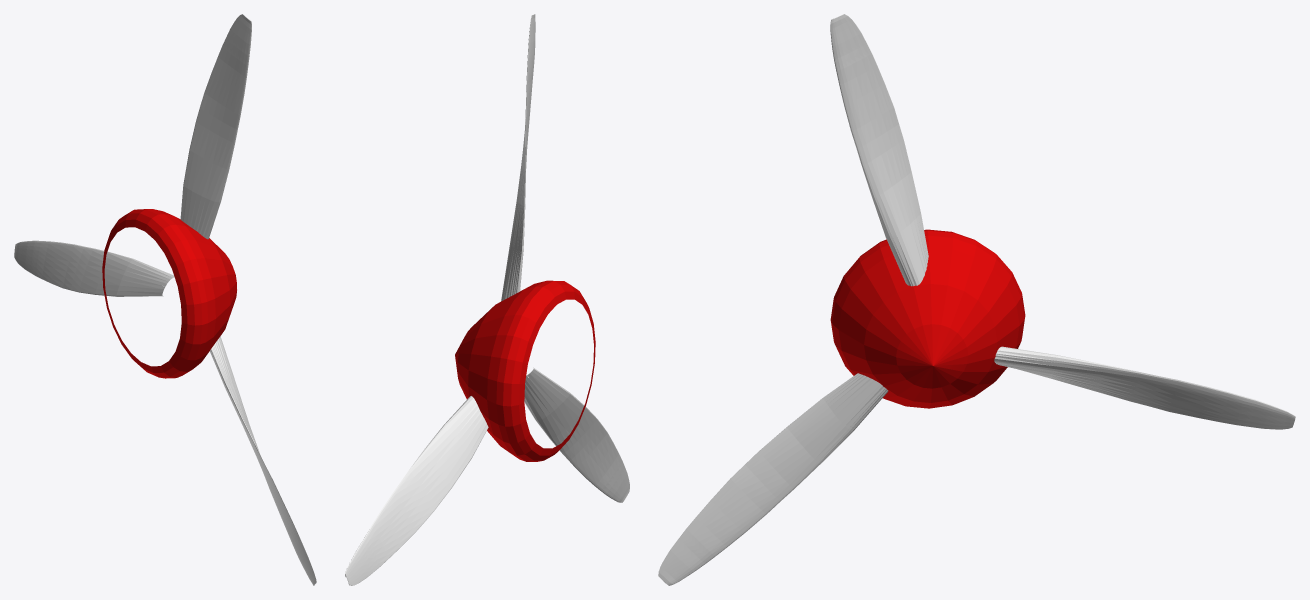
3 views of the same model, side by side, from view 1: azimuth 30°, elevation 25°; view 2: azimuth 150°, elevation 25°; view 3: azimuth 270°, elevation 25° (orthographic). The views are drawn at different scales.
Visible parts, largest first — view 1: Nose_Cone1, Prop_02, Prop_01, Prop_03; view 2: Nose_Cone1, Prop_01, Prop_03, Prop_02; view 3: Nose_Cone1, Prop_03, Prop_02, Prop_01.
Boxes of the visible parts, left/top/right/bottom form: Nose_Cone1: left=102, top=209, right=236, bottom=378; Prop_02: left=180, top=14, right=251, bottom=239; Prop_01: left=14, top=240, right=174, bottom=296; Prop_03: left=210, top=336, right=316, bottom=585; Nose_Cone1: left=455, top=280, right=595, bottom=461; Prop_01: left=345, top=396, right=488, bottom=585; Prop_03: left=524, top=367, right=629, bottom=502; Prop_02: left=501, top=14, right=535, bottom=301; Nose_Cone1: left=830, top=229, right=1025, bottom=408; Prop_03: left=658, top=373, right=888, bottom=585; Prop_02: left=830, top=14, right=928, bottom=286; Prop_01: left=994, top=346, right=1295, bottom=429.
Bounding box in the file's own units: 0.3598 × 1.78 × 1.79.
